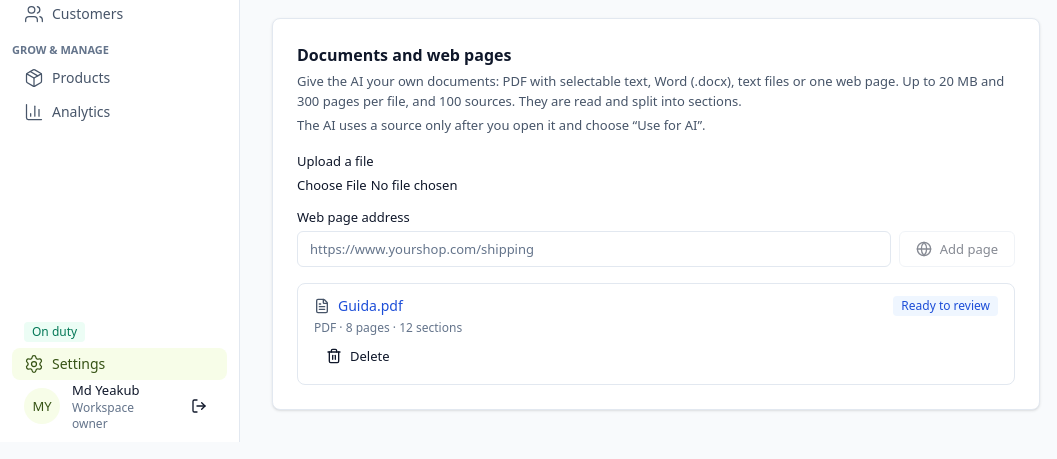
Test: Settings → Shop knowledge → Documents and web pages › asks before deleting
(page scrolled)
Click the button with aria-label "Delete Guida.pdf".
click(358, 356)  # box [314,340,402,372]
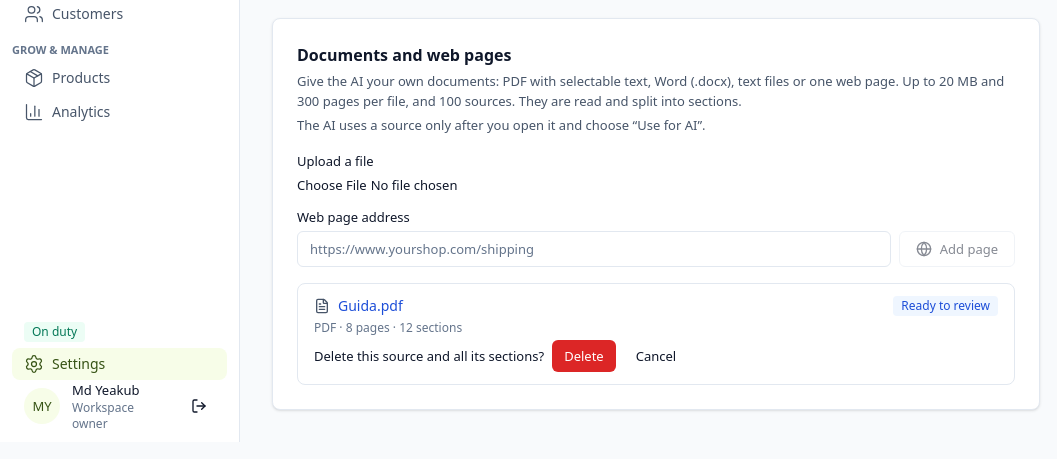
Expected: the text "Delete this source and all its sections?" is shown, [314,346,544,366]
Click the button "Cancel".
click(656, 356)  # box [624,340,688,372]
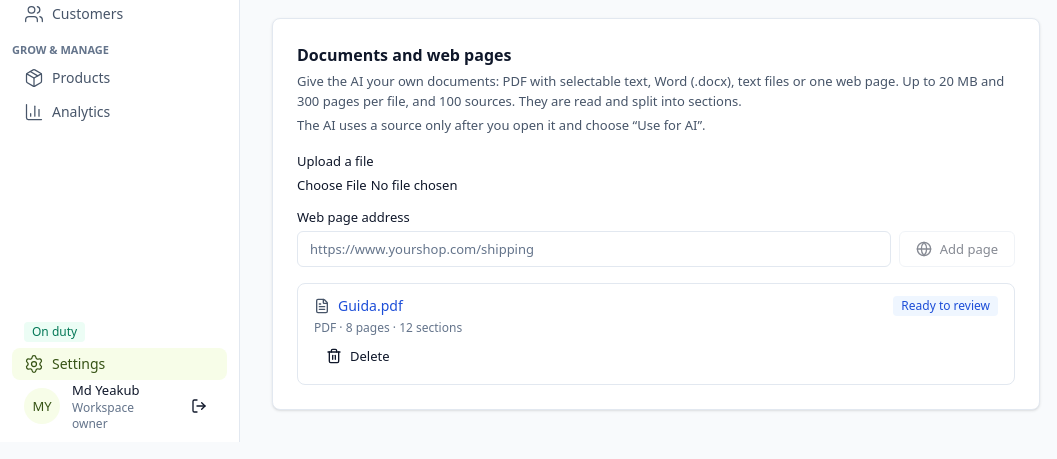
Expected: the text "Delete this source and all its sections?" is gone
Click the button with aria-label "Delete Guida.pdf".
click(358, 356)  # box [314,340,402,372]
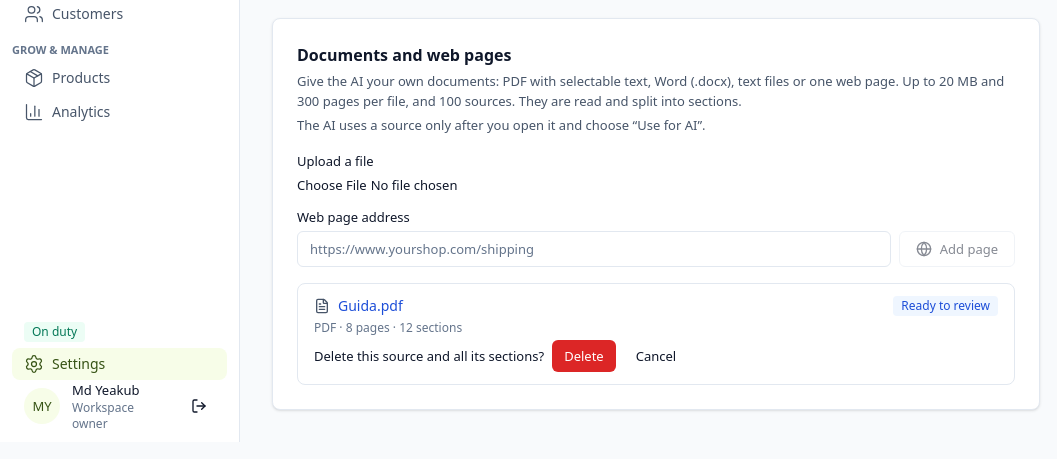
Click the button "Delete".
click(584, 356)  # box [552,340,616,372]
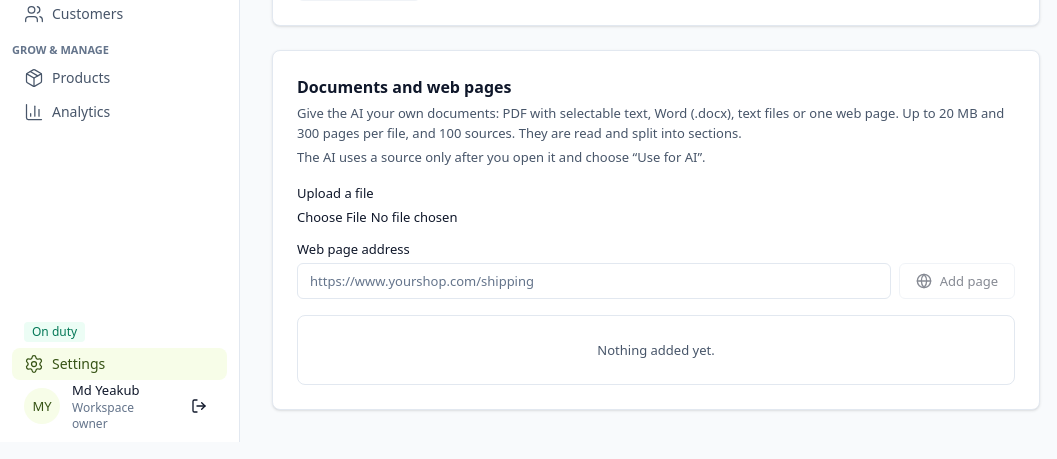
Expected: the text "Nothing added yet." is shown, [297,315,1015,385]
